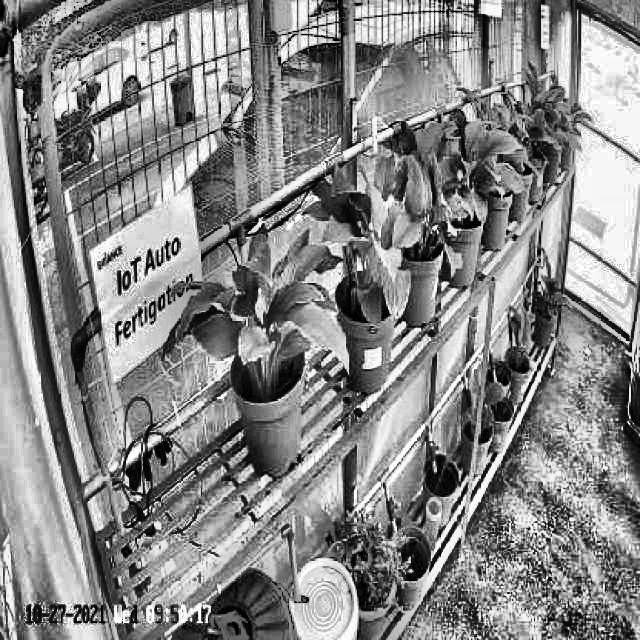plants: (160, 222, 352, 396), (310, 176, 415, 332), (369, 116, 463, 278), (424, 96, 520, 230)
